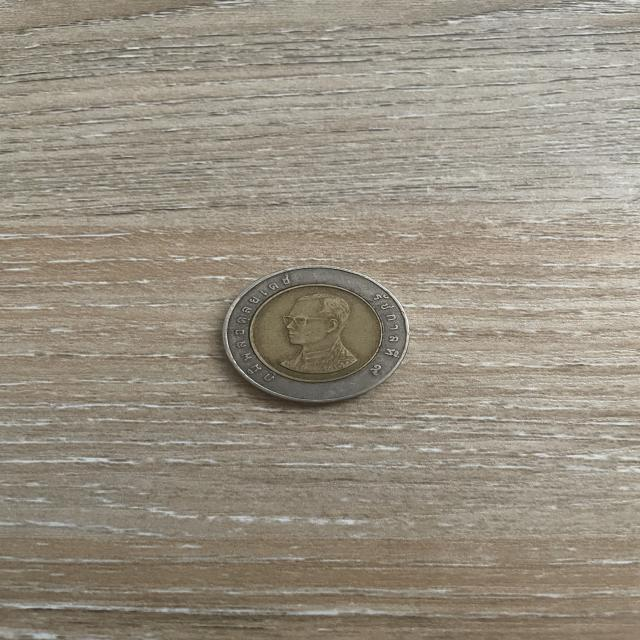10 Bath: (190, 256, 430, 416)
